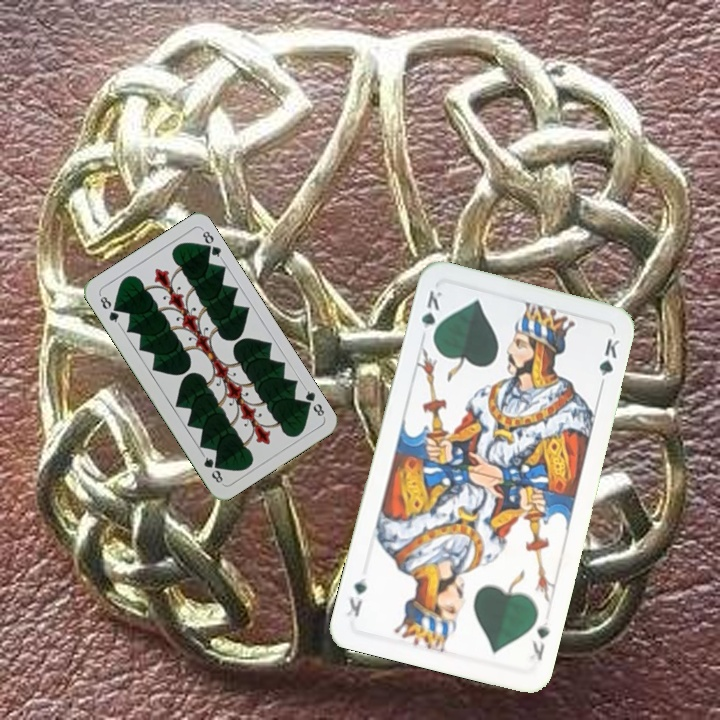G8: (298, 383, 327, 419), (96, 291, 122, 327)
GK: (417, 286, 445, 344), (525, 617, 552, 663)
